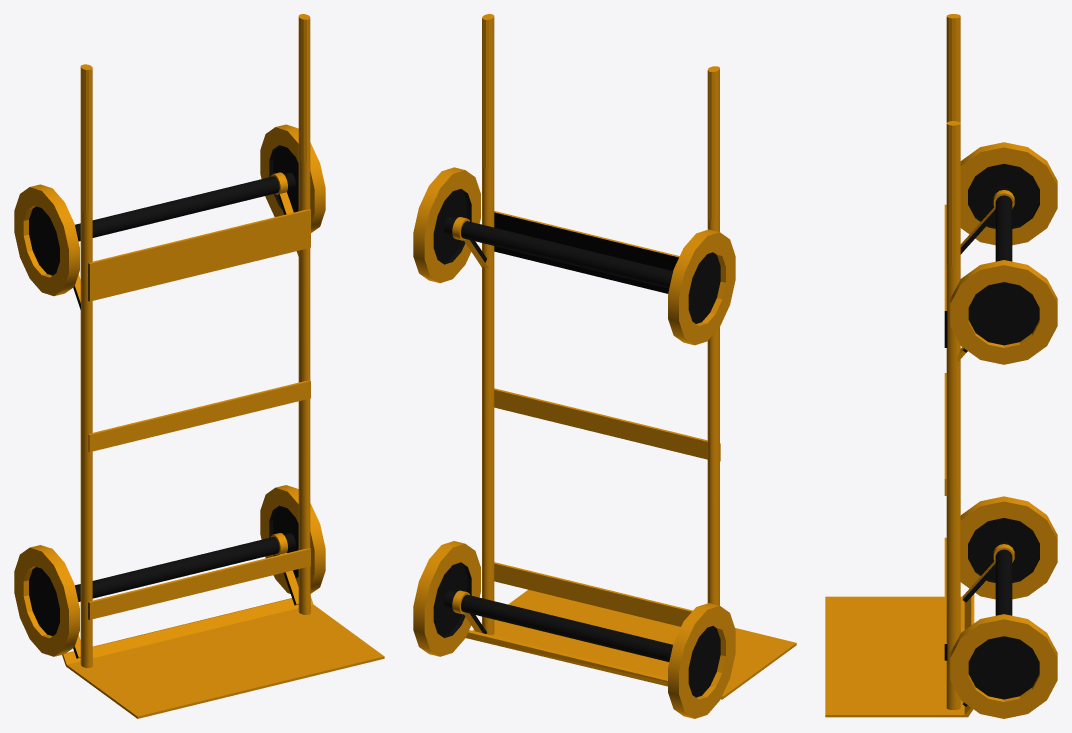
The model's file is Lift_Trolley.fbx.
The picture shows the model from 3 angles, left to right: view 1: azimuth 30°, elevation 25°; view 2: azimuth 150°, elevation 25°; view 3: azimuth 270°, elevation 25°; orthographic projection. The views are drawn at different scales.
Visible parts, largest first — view 1: Final_Lift_Trolley; view 2: Final_Lift_Trolley; view 3: Final_Lift_Trolley.
Boxes of the visible parts, <box> form: Final_Lift_Trolley: <box>14,14,384,718</box>; Final_Lift_Trolley: <box>413,14,796,718</box>; Final_Lift_Trolley: <box>825,14,1057,718</box>.
Size of the model in its own units: 534 by 1195 by 427.
